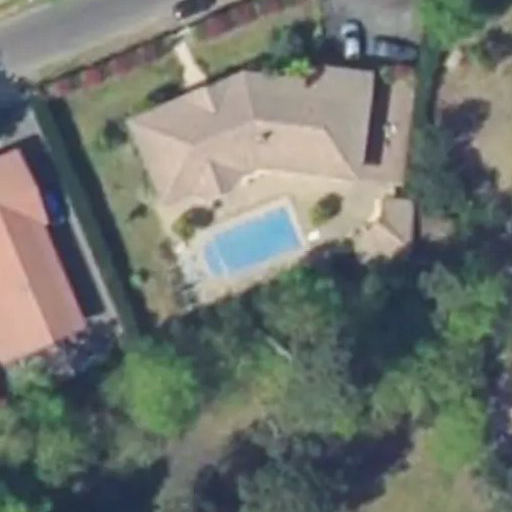pool: (192, 203, 302, 274)
